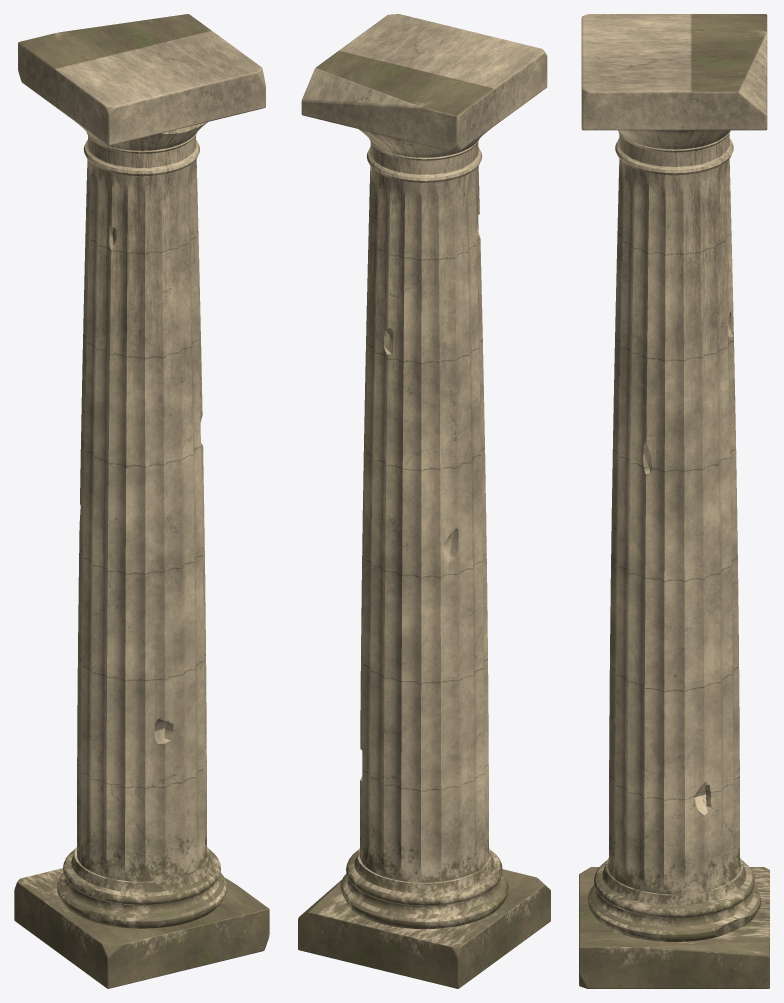
File: destructible_column_fractured.glb
3 views of the same model, side by side, from view 1: azimuth 30°, elevation 25°; view 2: azimuth 150°, elevation 25°; view 3: azimuth 270°, elevation 25° (orthographic). The views are drawn at different scales.
Visible parts, largest first — view 1: chunk_027, chunk_029, chunk_033, chunk_003, chunk_004, chunk_023, chunk_034, chunk_007, chunk_037, chunk_008, chunk_017, chunk_012 (+14 smaller); view 2: chunk_034, chunk_028, chunk_030, chunk_008, chunk_025, chunk_002, chunk_018, chunk_013, chunk_003, chunk_015, chunk_022, chunk_011 (+14 smaller); view 3: chunk_009, chunk_024, chunk_004, chunk_028, chunk_029, chunk_037, chunk_005, chunk_019, chunk_016, chunk_027, chunk_033, chunk_030 (+14 smaller).
Boxes of the visible parts, <box> form: chunk_027: <box>85,333,202,468</box>; chunk_029: <box>88,211,200,349</box>; chunk_033: <box>88,63,226,176</box>; chunk_003: <box>38,883,161,988</box>; chunk_004: <box>155,847,269,975</box>; chunk_023: <box>99,460,198,576</box>; chunk_034: <box>18,25,129,169</box>; chunk_007: <box>92,812,206,881</box>; chunk_037: <box>151,34,265,117</box>; chunk_008: <box>77,747,149,871</box>; chunk_017: <box>81,581,174,678</box>; chunk_012: <box>95,696,186,790</box>; chunk_034: <box>364,63,529,182</box>; chunk_028: <box>364,278,479,437</box>; chunk_030: <box>367,168,470,308</box>; chunk_008: <box>396,753,488,882</box>; chunk_025: <box>365,428,462,545</box>; chunk_002: <box>367,892,482,988</box>; chunk_018: <box>370,582,474,681</box>; chunk_013: <box>423,646,488,770</box>; chunk_003: <box>466,853,550,970</box>; chunk_015: <box>362,623,431,739</box>; chunk_022: <box>383,501,482,585</box>; chunk_011: <box>360,696,453,804</box>; chunk_009: <box>619,771,740,894</box>; chunk_024: <box>619,437,724,565</box>; chunk_004: <box>579,862,665,988</box>; chunk_028: <box>650,275,735,439</box>; chunk_029: <box>615,207,700,358</box>; chunk_037: <box>581,52,681,140</box>; chunk_005: <box>662,868,769,988</box>; chunk_019: <box>610,555,705,658</box>; chunk_016: <box>633,641,715,742</box>; chunk_027: <box>613,332,694,461</box>; chunk_033: <box>581,14,716,175</box>; chunk_030: <box>667,159,732,295</box>.
Bounding box in the file's own units: 2.3 × 11.92 × 2.3.
2 materials, 2 textured.
